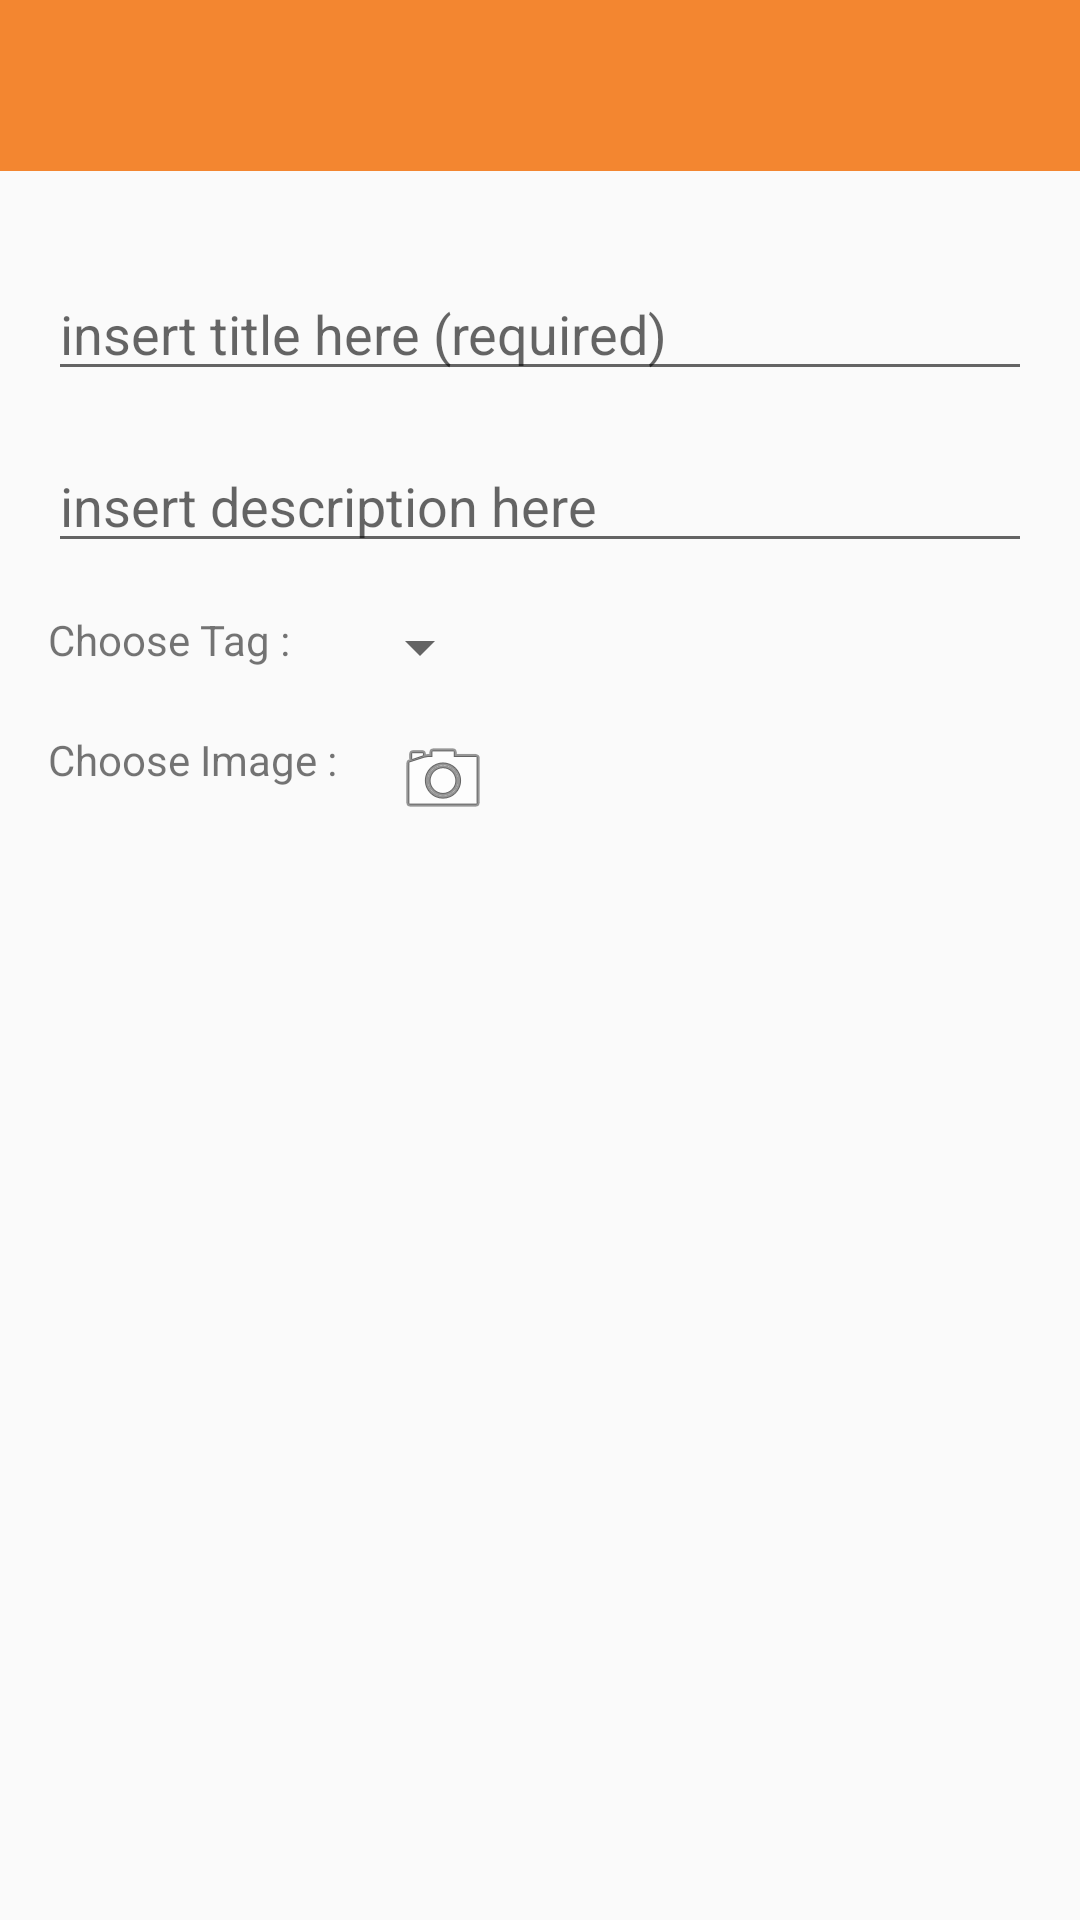

Screen size 1080×1920. Icon name, then its center in pixels as point (x, y):
camera: point (443, 777)
